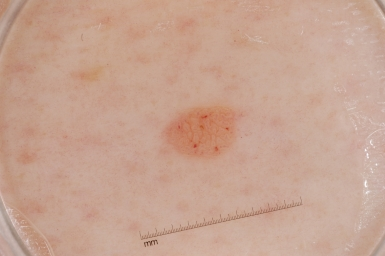seborrheic keratosis: (145, 68, 262, 186)
